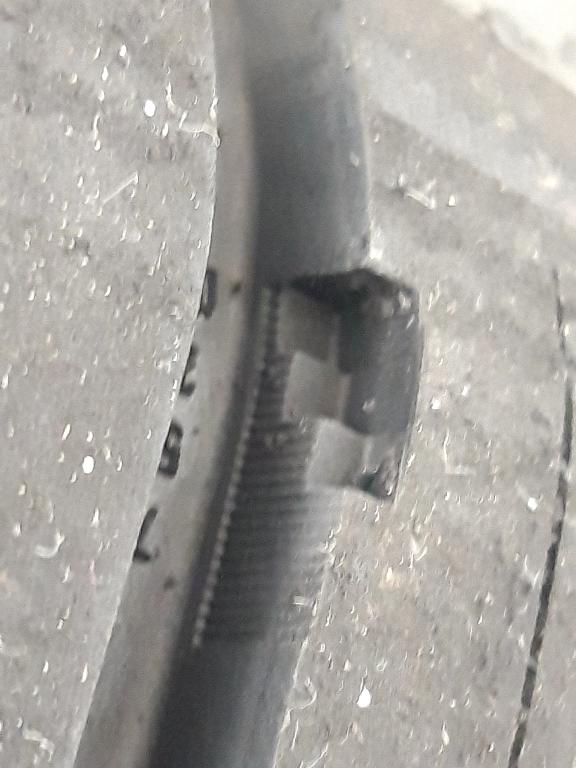temoin:75: (196, 239, 443, 590)
